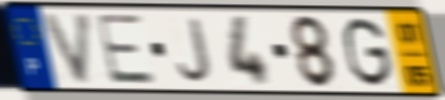4: (225, 13, 275, 89)
8: (288, 12, 339, 90)
E: (92, 12, 160, 87)
G: (341, 15, 396, 90)
J: (175, 15, 213, 85)
V: (40, 11, 96, 87)
